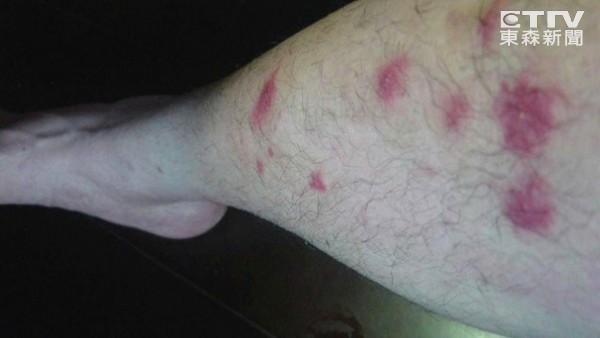Mosquito: (479, 68, 569, 166), (502, 162, 559, 233), (245, 67, 286, 134), (374, 55, 409, 106), (435, 88, 475, 131), (308, 170, 327, 191), (254, 159, 265, 174)
